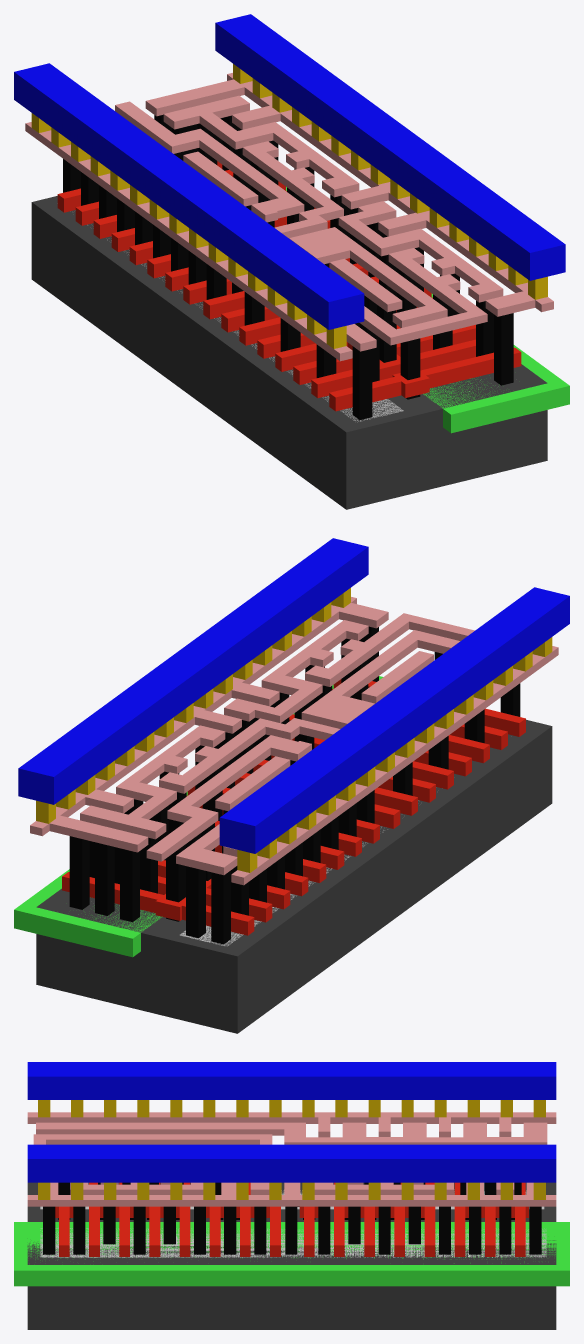
File: sky130_fd_sc_hd__o22ai_4.obj
The picture shows the model from 3 angles, top to bottom: view 1: azimuth 30°, elevation 25°; view 2: azimuth 150°, elevation 25°; view 3: azimuth 270°, elevation 25°; orthographic projection. The views are drawn at different scales.
Visible parts, largest first — view 1: subs, metal1, li, licon, poly, mcon, nwell, diff; view 2: subs, metal1, li, licon, poly, mcon, nwell; view 3: metal1, subs, li, nwell, licon, poly, mcon, tap.
Boxes of the visible parts, x1,y1,x2,y2 form: subs: (31, 196, 547, 509); metal1: (14, 14, 565, 329); li: (25, 73, 553, 361); licon: (63, 114, 513, 419); poly: (57, 161, 521, 411); mcon: (31, 64, 547, 348); nwell: (286, 187, 569, 433); diff: (87, 225, 403, 422); subs: (36, 719, 552, 1033); metal1: (18, 538, 569, 853); li: (30, 597, 558, 885); licon: (69, 626, 520, 944); poly: (62, 679, 525, 935); mcon: (36, 588, 552, 872); nwell: (14, 676, 383, 957); metal1: (27, 1062, 556, 1182); subs: (27, 1182, 556, 1329); li: (27, 1112, 556, 1206); nwell: (14, 1222, 569, 1286); licon: (43, 1182, 541, 1254); poly: (55, 1182, 528, 1256); mcon: (38, 1100, 545, 1199); tap: (40, 1228, 546, 1257).
Bounding box in the file's own units: 3.2 × 2.74 × 7.74.
